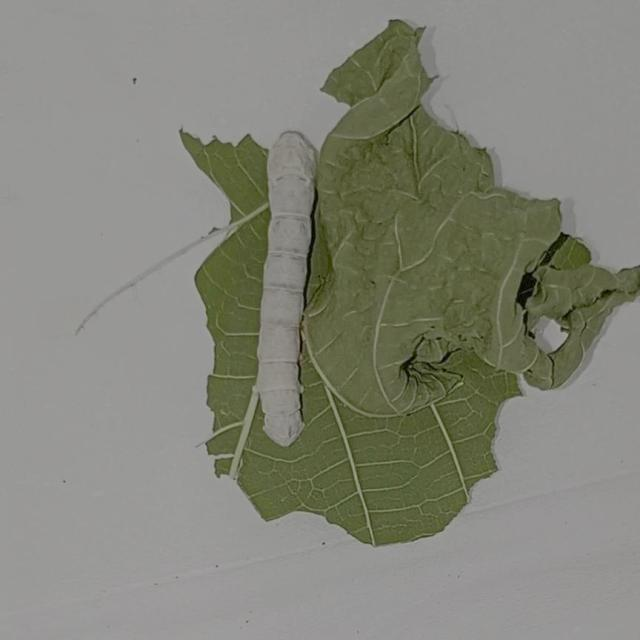Healthy: (200, 110, 373, 471)
